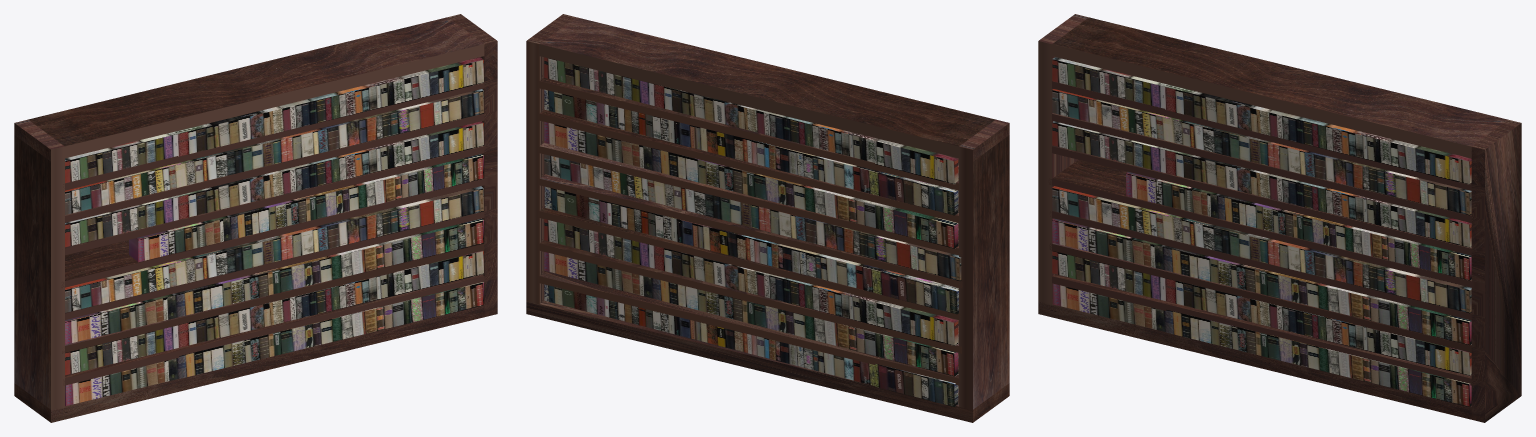
Rendered from bookshelfhole.fbx.
3 renders of one model, left to right at view 1: azimuth 30°, elevation 25°; view 2: azimuth 150°, elevation 25°; view 3: azimuth 330°, elevation 25°, orthographic.
Visible parts, largest first — view 1: Cube.008; view 2: Cube.008; view 3: Cube.008.
Boxes of the visible parts, <box> form: Cube.008: <box>14,14,497,422</box>; Cube.008: <box>526,14,1009,422</box>; Cube.008: <box>1038,14,1521,422</box>.
Size of the model in its own units: 702 by 410 by 105.
17 materials, 17 textured.
